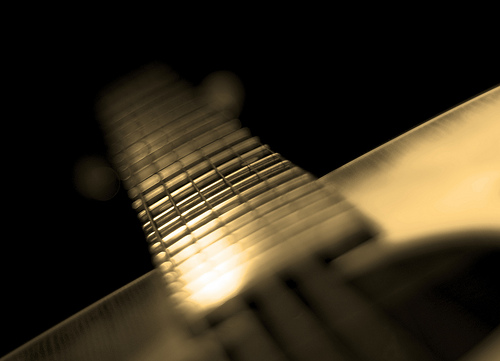guitar: (1, 77, 500, 361)
